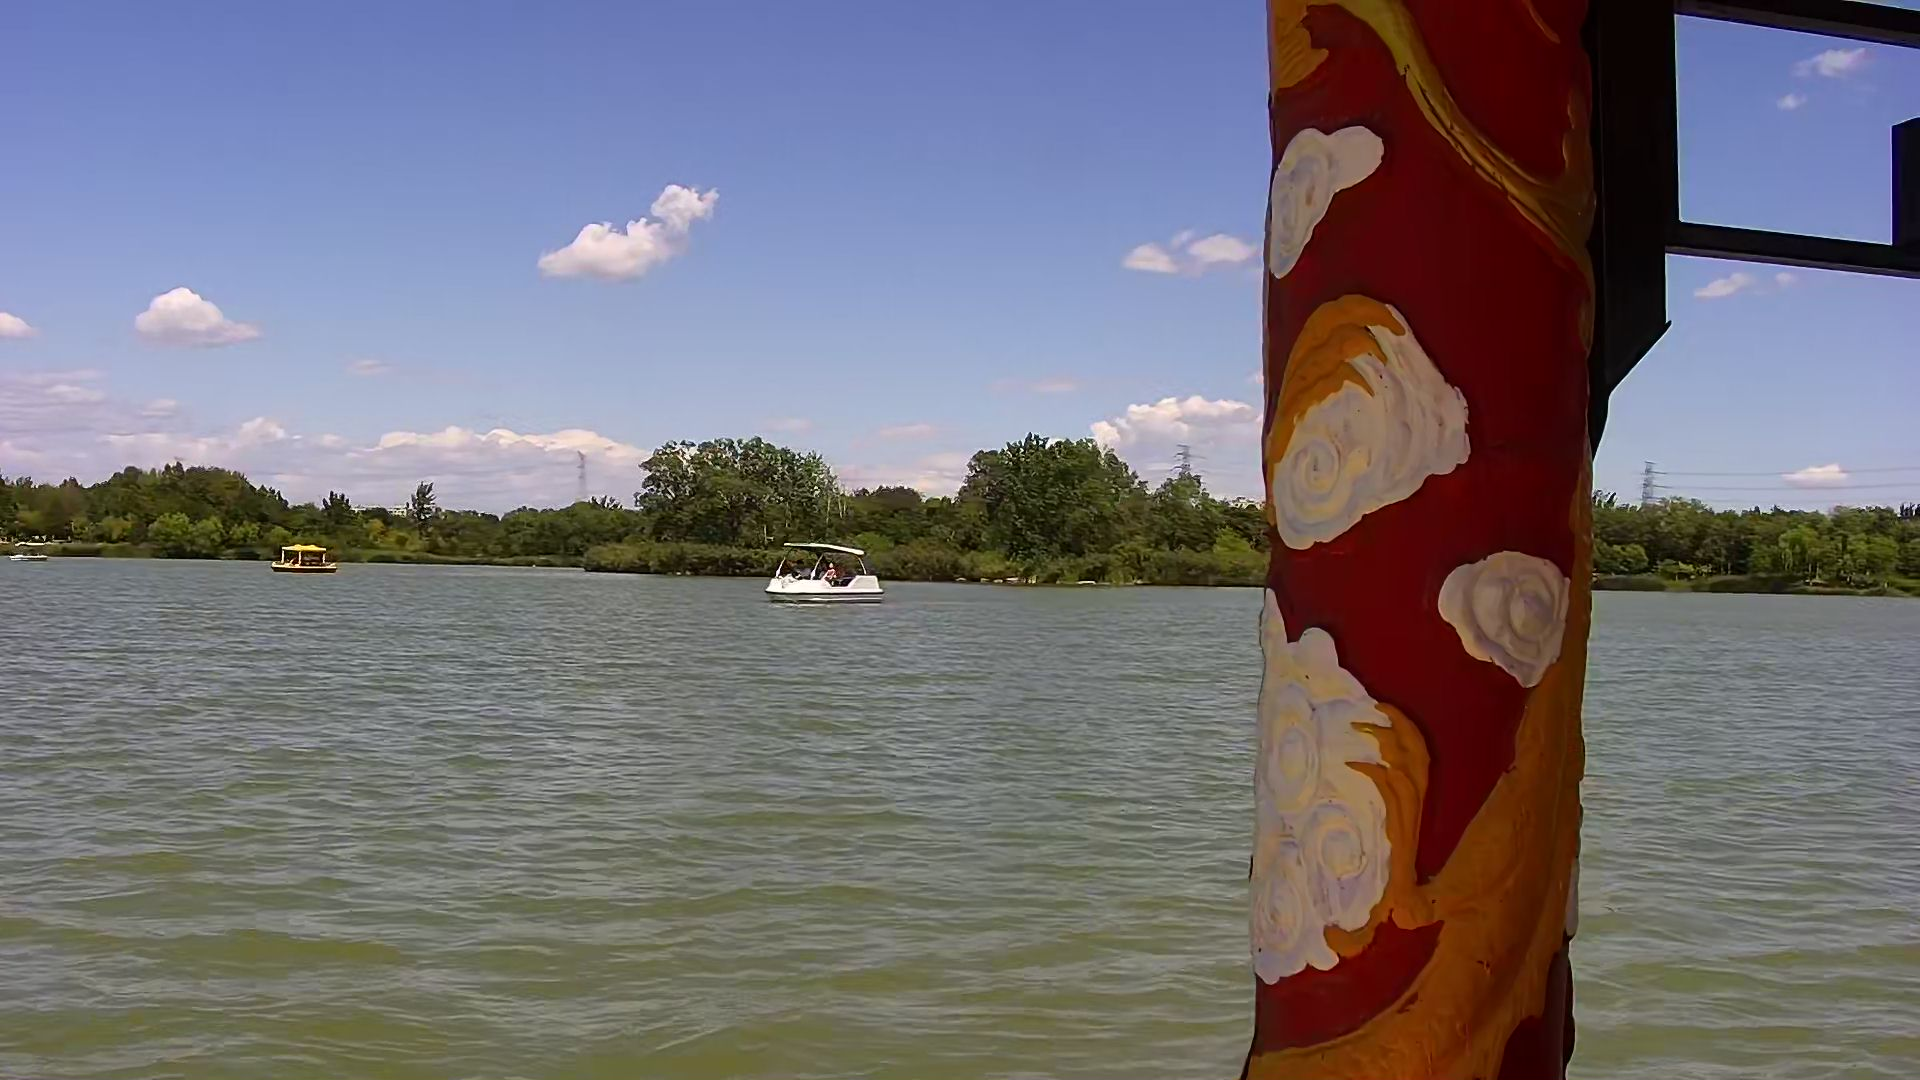boat: (762, 541, 884, 605), (270, 542, 328, 575), (11, 539, 45, 560)
